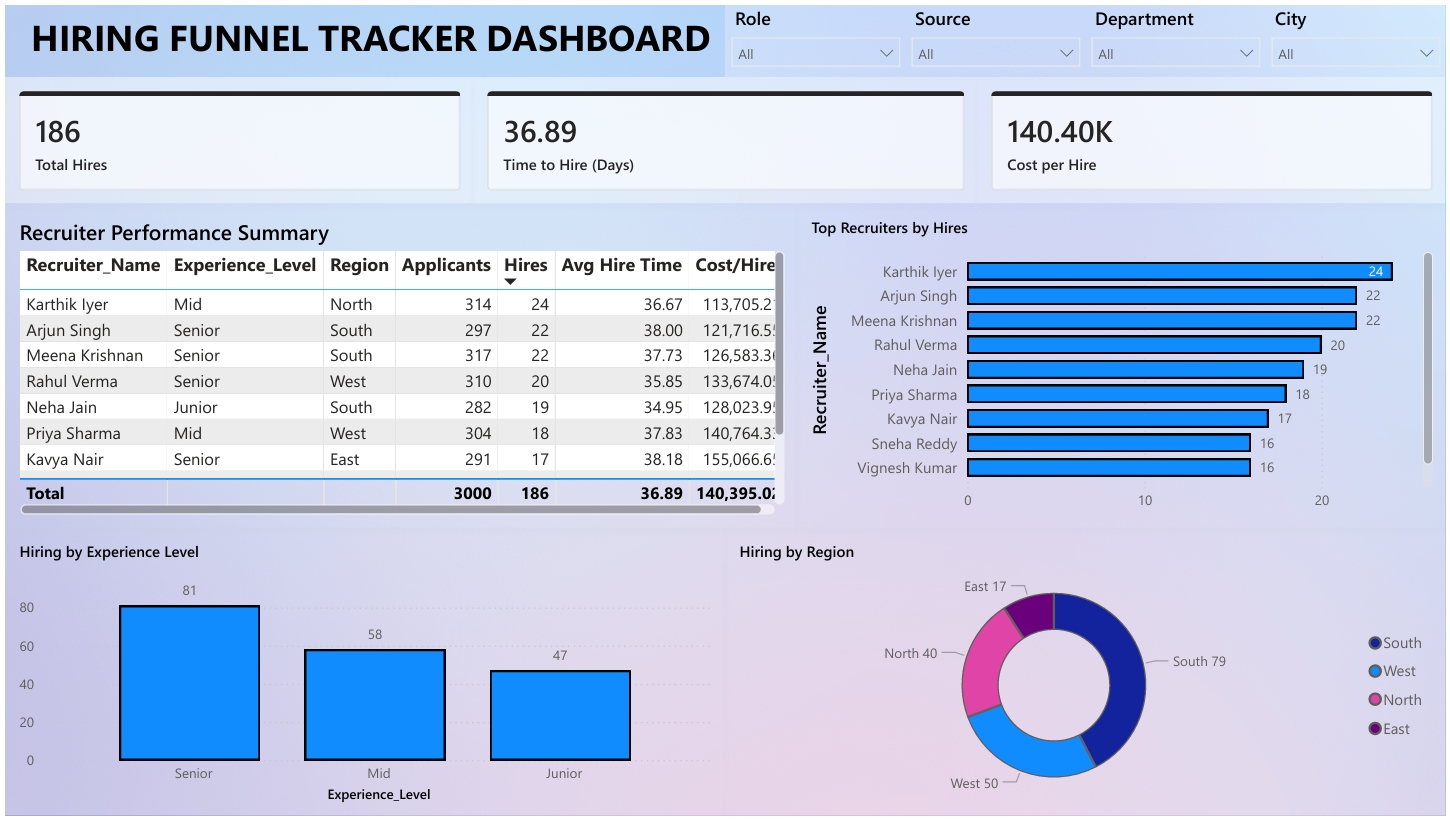

The dashboard page shown, as its layout file describes it:
{"tool":"powerbi","page":{"name":"Recruiter Performance","canvas":[1280,720],"ordinal":1},"visuals":[{"type":"cardVisual","fields":{"Data":["Calendar.Total Hires"]},"box":[0,64,416,112],"z":0},{"type":"cardVisual","fields":{"Data":["Calendar.Time to Hire (Days)"]},"box":[416,64,448,112],"z":1000},{"type":"cardVisual","fields":{"Data":["Calendar.Cost per Hire"]},"box":[864,64,416,112],"z":2000},{"type":"tableEx","title":"Recruiter Performance Summary","fields":{"Values":["Recruiters.Recruiter_Name","Recruiters.Experience_Level","Recruiters.Region","Calendar.Total Applicants","Calendar.Joined Candidates","Calendar.Time to Hire (Days)","Calendar.Cost per Hire"]},"box":[0,176,704,288],"z":3000},{"type":"clusteredBarChart","title":"Top Recruiters by Hires","fields":{"Category":["Recruiters.Recruiter_Name"],"Y":["Calendar.Joined Candidates"]},"box":[704,176,576,288],"z":4000},{"type":"clusteredColumnChart","title":"Hiring by Experience Level","fields":{"Category":["Recruiters.Experience_Level"],"Y":["Calendar.Joined Candidates"]},"box":[0,464,640,256],"z":5000},{"type":"donutChart","title":"Hiring by Region","fields":{"Category":["Recruiters.Region"],"Y":["Calendar.Joined Candidates"]},"box":[640,464,640,256],"z":6000},{"type":"slicer","fields":{"Values":["Candidates.Role_Applied"]},"box":[640,0,160,64],"z":7000},{"type":"slicer","fields":{"Values":["Candidates.Source"]},"box":[800,0,160,64],"z":8000},{"type":"slicer","fields":{"Values":["Candidates.Department"]},"box":[960,0,160,64],"z":9000},{"type":"slicer","fields":{"Values":["Candidates.City"]},"box":[1120,0,160,64],"z":10000},{"type":"textbox","box":[0,0,640,64],"z":11000}]}

Visuals, with their boxes in screenshot pixels (x1, y1, x2, y2), scaled from the page's 1280x720 canvas onto the 1450x821 screenshot:
cardVisual - Calendar.Total Hires: pyautogui.locateOnScreen(0, 73, 471, 201)
cardVisual - Calendar.Time to Hire (Days): pyautogui.locateOnScreen(471, 73, 979, 201)
cardVisual - Calendar.Cost per Hire: pyautogui.locateOnScreen(979, 73, 1449, 201)
"Recruiter Performance Summary" tableEx: pyautogui.locateOnScreen(0, 201, 798, 529)
"Top Recruiters by Hires" clusteredBarChart: pyautogui.locateOnScreen(798, 201, 1449, 529)
"Hiring by Experience Level" clusteredColumnChart: pyautogui.locateOnScreen(0, 529, 725, 820)
"Hiring by Region" donutChart: pyautogui.locateOnScreen(725, 529, 1449, 820)
slicer - Candidates.Role_Applied: pyautogui.locateOnScreen(725, 0, 906, 73)
slicer - Candidates.Source: pyautogui.locateOnScreen(906, 0, 1088, 73)
slicer - Candidates.Department: pyautogui.locateOnScreen(1088, 0, 1269, 73)
slicer - Candidates.City: pyautogui.locateOnScreen(1269, 0, 1449, 73)
textbox: pyautogui.locateOnScreen(0, 0, 725, 73)
